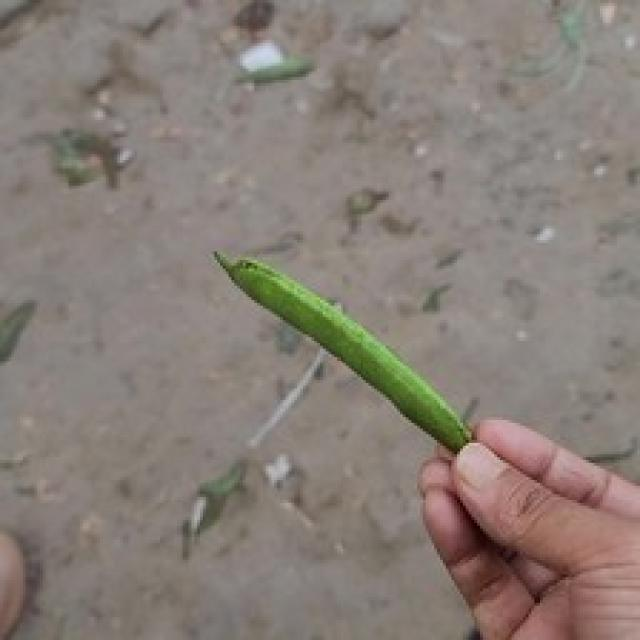Bean: (212, 246, 474, 454)
